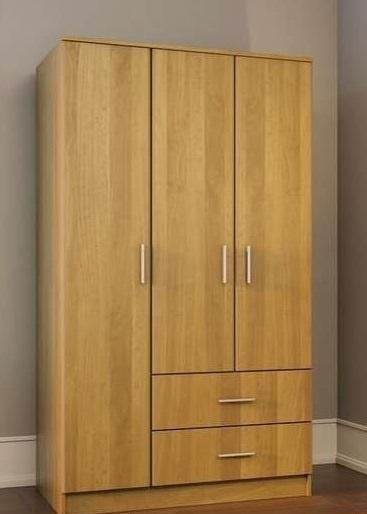Armario: (31, 25, 324, 508)
